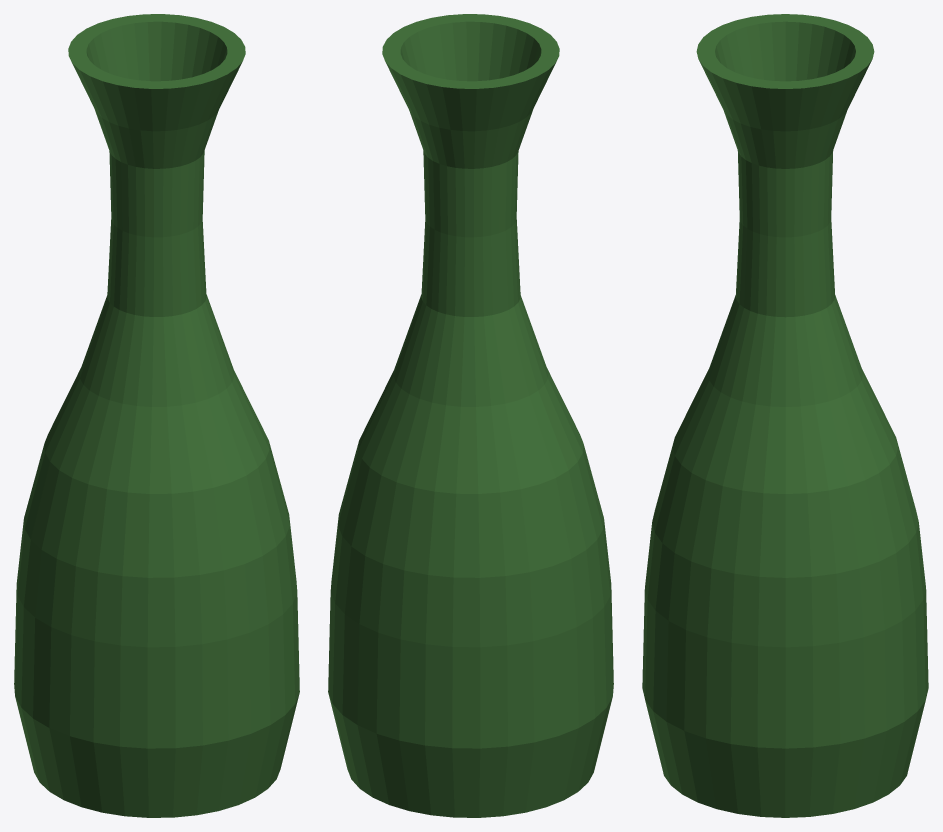
Rendered from greentallvase.fbx.
The picture shows the model from 3 angles, left to right: view 1: azimuth 30°, elevation 25°; view 2: azimuth 150°, elevation 25°; view 3: azimuth 270°, elevation 25°; orthographic projection.
Parts seen in each view (by area): view 1: Cylinder; view 2: Cylinder; view 3: Cylinder.
Boxes of the visible parts, bbox=[...] form: Cylinder: bbox=[14, 14, 299, 817]; Cylinder: bbox=[328, 14, 613, 817]; Cylinder: bbox=[642, 14, 928, 817].
Size of the model in its own units: 119 by 328 by 119.
